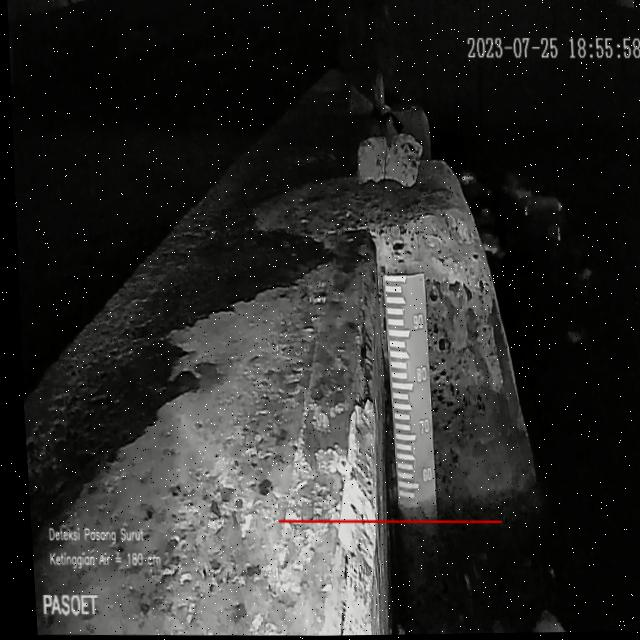water-meter: (372, 261, 448, 545)
